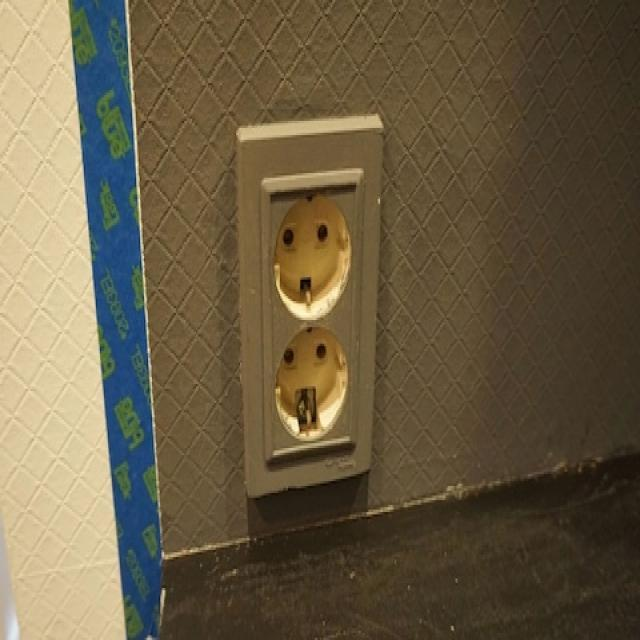typeb: (230, 92, 387, 524)
